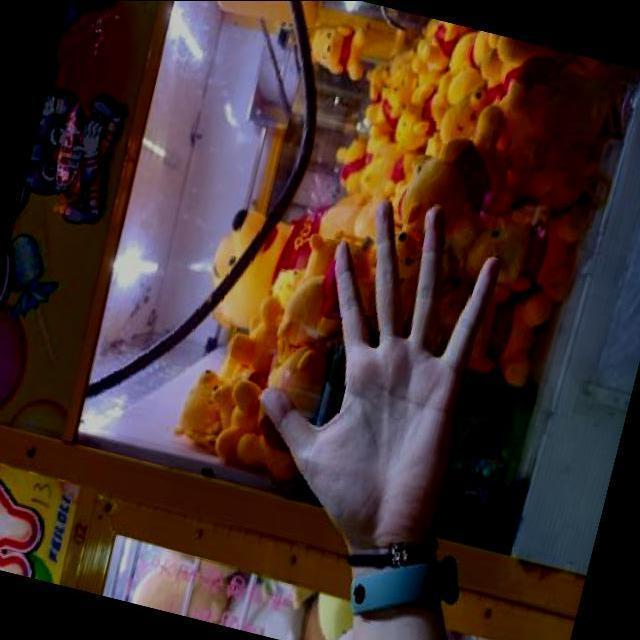Hand: (258, 196, 502, 612)
